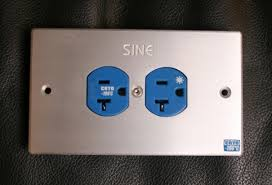outlet: (152, 78, 186, 116), (95, 77, 128, 113)
